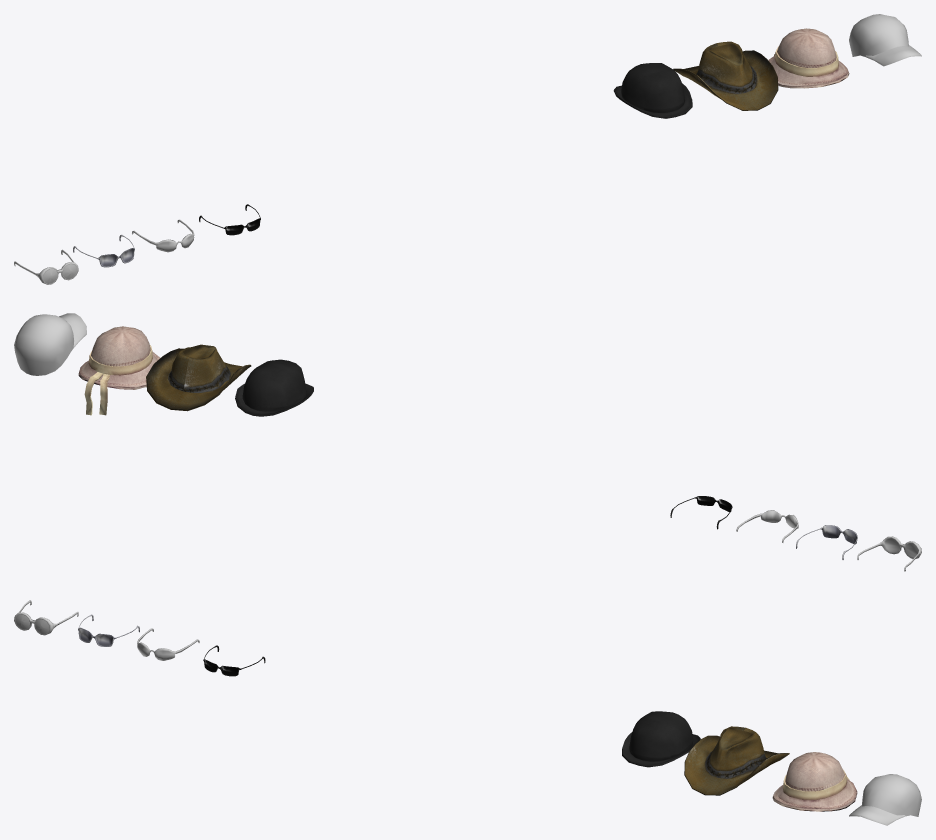
File: accessories.dae
3 renders of one model, top to bottom at view 1: azimuth 30°, elevation 25°; view 2: azimuth 150°, elevation 25°; view 3: azimuth 330°, elevation 25°, orthographic.
Visible parts, largest first — view 1: CowboyHat, FemaleBowlerHat, MaleBowlerHat, BaseBallCap, FeMaleRoundGlasses; view 2: CowboyHat, FemaleBowlerHat, BaseBallCap, MaleBowlerHat, FeMaleRoundGlasses; view 3: CowboyHat, FemaleBowlerHat, MaleBowlerHat, BaseBallCap, FeMaleRoundGlasses, MaleRoundGlasses, FeMaleSquareGlasses.
Boxes of the visible parts, x1,y1,x2,y2 form: CowboyHat: (673, 41, 778, 110); FemaleBowlerHat: (768, 28, 849, 88); MaleBowlerHat: (613, 63, 692, 118); BaseBallCap: (849, 14, 921, 66); FeMaleRoundGlasses: (14, 249, 78, 284); CowboyHat: (146, 344, 251, 411); FemaleBowlerHat: (78, 326, 159, 415); BaseBallCap: (14, 313, 86, 375); MaleBowlerHat: (235, 359, 313, 416); FeMaleRoundGlasses: (857, 536, 921, 571); CowboyHat: (684, 726, 789, 795); FemaleBowlerHat: (772, 752, 857, 811); MaleBowlerHat: (622, 711, 700, 767); BaseBallCap: (849, 774, 921, 825); FeMaleRoundGlasses: (14, 600, 78, 635); MaleRoundGlasses: (137, 628, 199, 660); FeMaleSquareGlasses: (78, 614, 139, 646).
Size of the model in its own units: 3.45 by 0.2572 by 0.4057.
